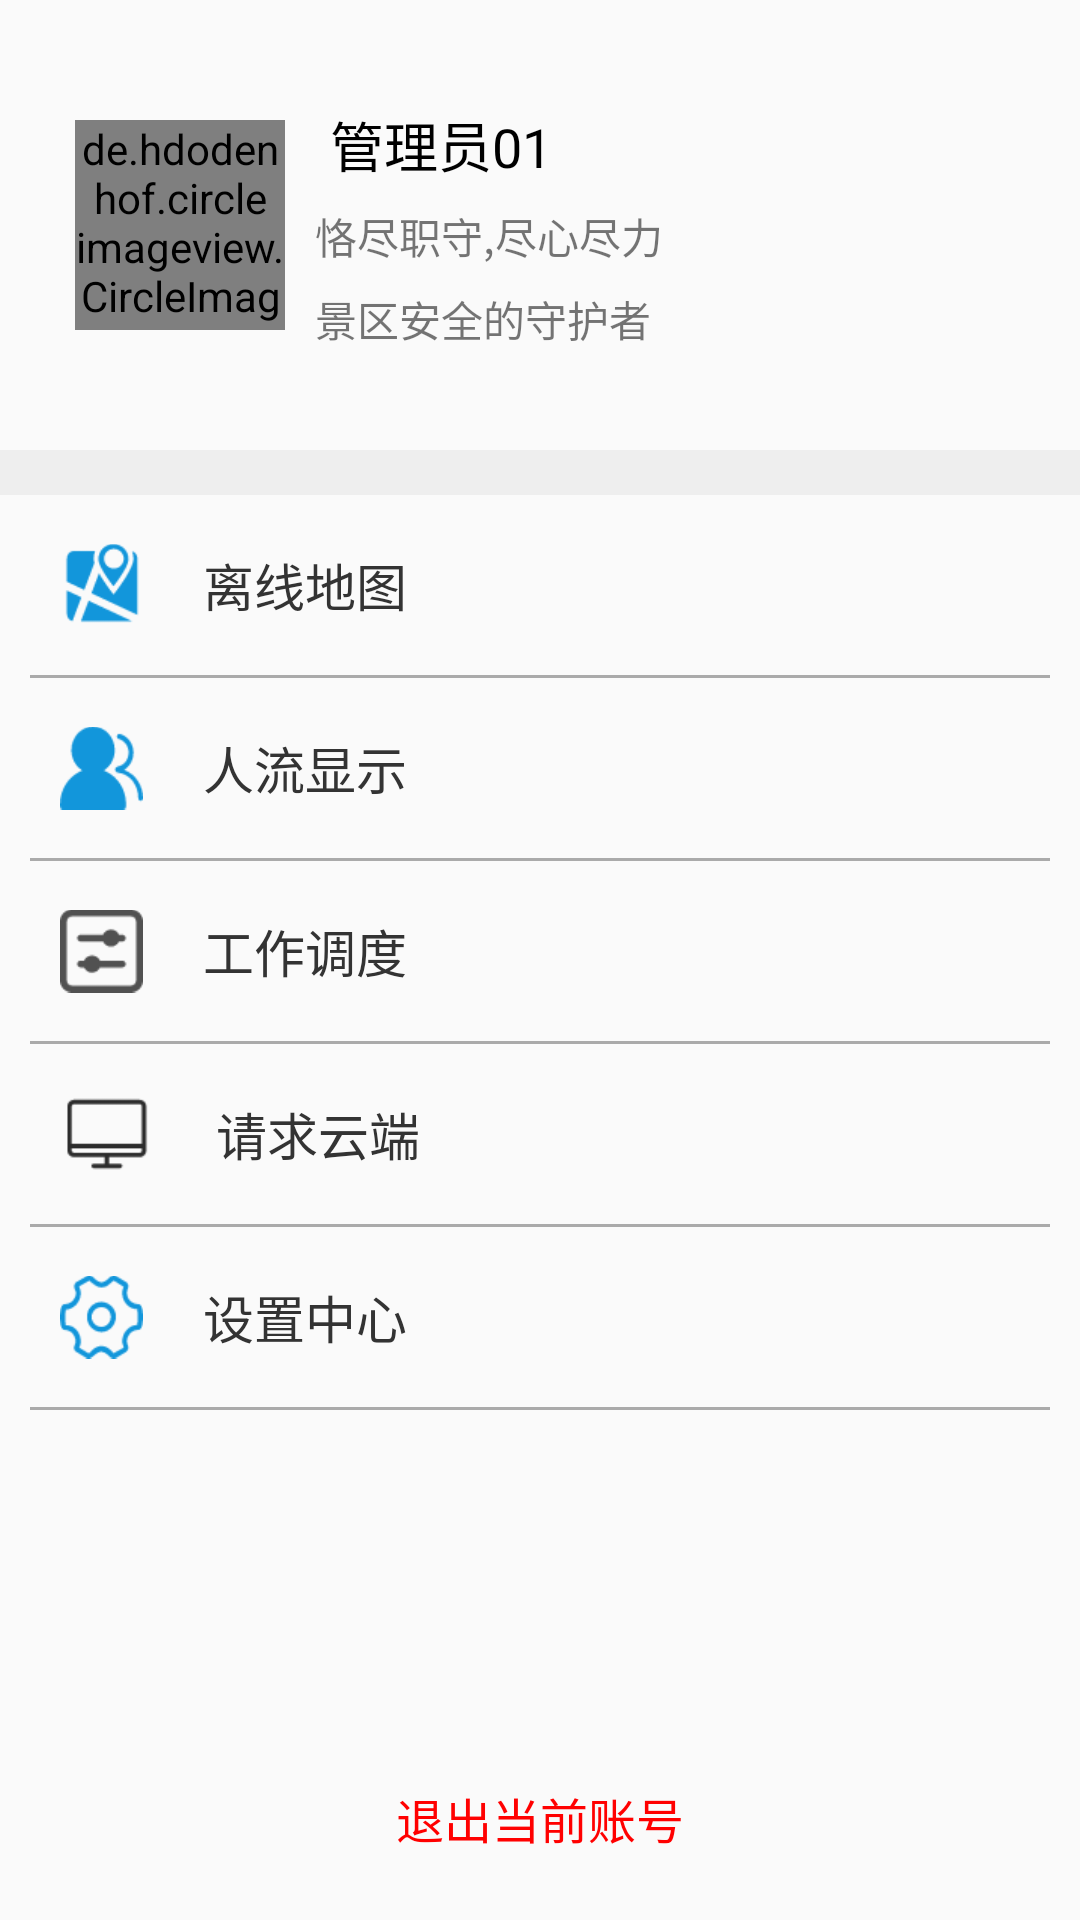

Screen size 1080*1920. Icon name, then its box in pixels as rect(x1, y1, x2, y2):
map download: rect(66, 544, 139, 622)
set: rect(60, 1276, 143, 1359)
